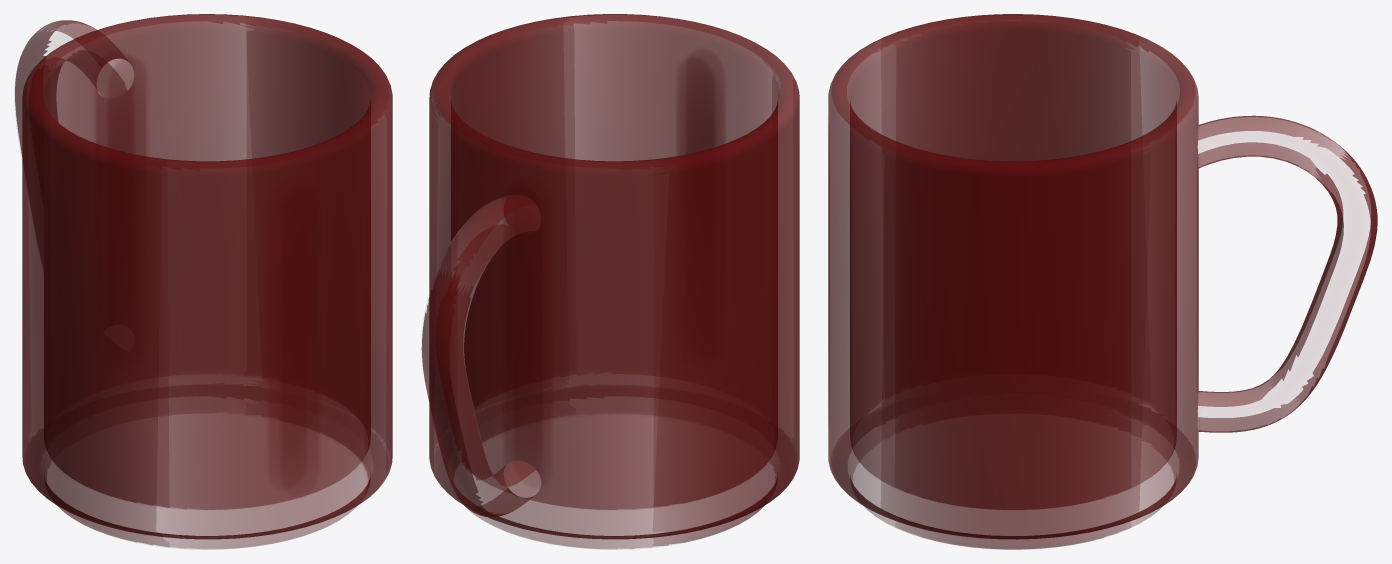
File: mug_small.glb
3 renders of one model, left to right at view 1: azimuth 30°, elevation 25°; view 2: azimuth 150°, elevation 25°; view 3: azimuth 270°, elevation 25°, orthographic.
Parts seen in each view (by area): view 1: porcelaine_clonedChild, porcelaine; view 2: porcelaine_clonedChild, porcelaine; view 3: porcelaine_clonedChild, porcelaine.
Part boxes in pixels (left/top/right/bottom): porcelaine_clonedChild: left=22, top=14, right=392, bottom=549; porcelaine: left=15, top=14, right=392, bottom=538; porcelaine_clonedChild: left=421, top=14, right=799, bottom=548; porcelaine: left=429, top=14, right=799, bottom=538; porcelaine_clonedChild: left=828, top=14, right=1377, bottom=549; porcelaine: left=828, top=14, right=1377, bottom=539.
Bounding box in the file's own units: 0.085 × 0.1 × 0.126.
Materials: 1 (1 with a texture image).
